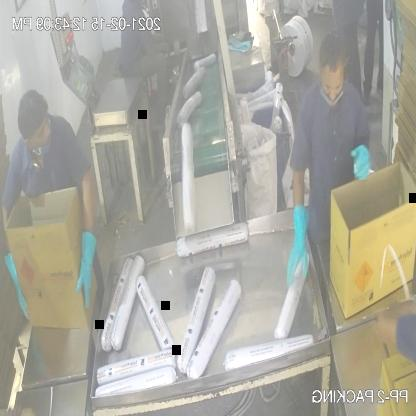glove: (285, 192, 319, 294), (67, 222, 97, 316), (342, 127, 383, 188)
no_glove: (149, 38, 181, 59)
